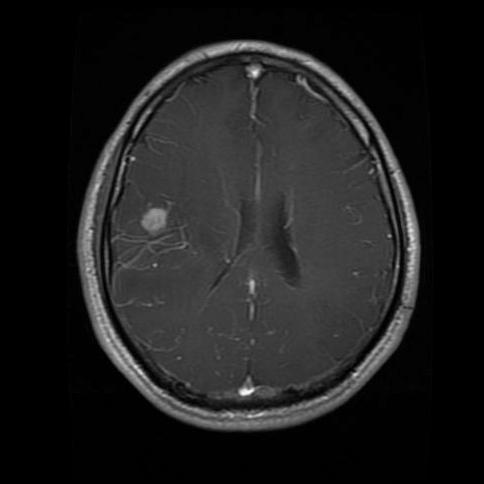Tumour-Glioma: (128, 192, 183, 251)
